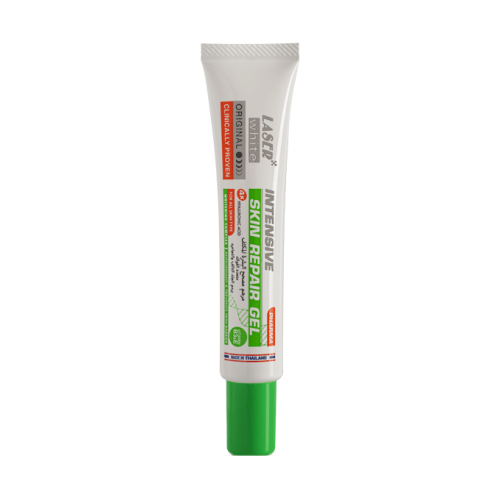Medicine: (191, 33, 310, 467)
